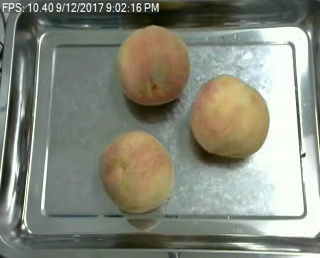Peach: (189, 73, 270, 158), (97, 131, 175, 212), (117, 25, 190, 105)
